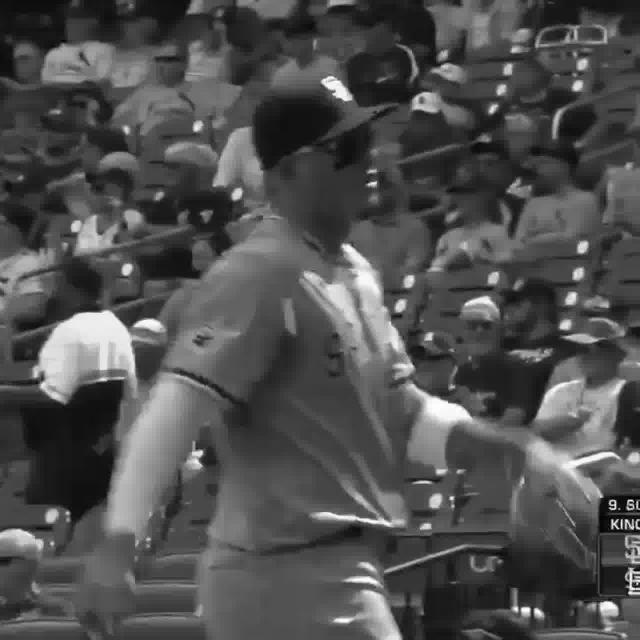baseball_glove: (516, 431, 596, 566)
